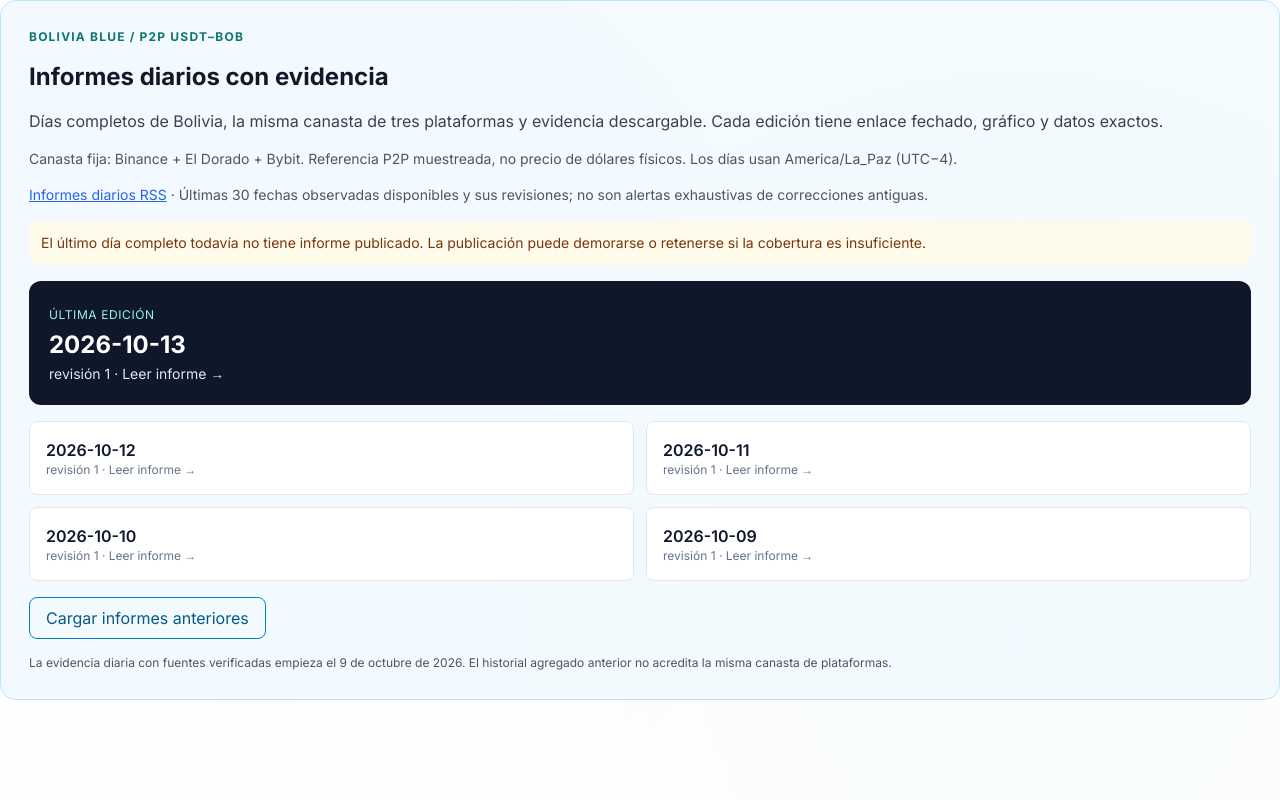
Test: daily evidence archive › loads older dates and deduplicates repeated rows
Step 1. Click the button "Cargar informes anteriores" → (147, 618), box [29,597,266,639]
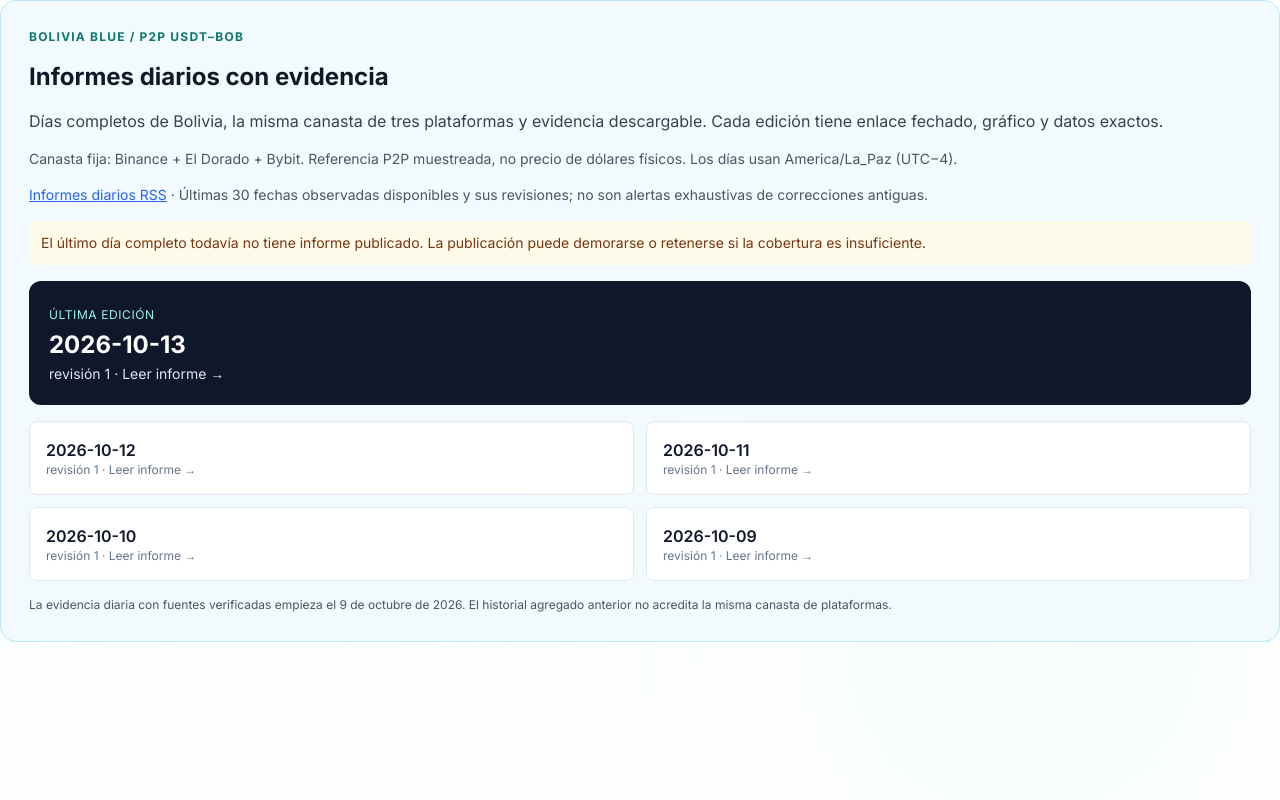
Expected: the number of links is 6, [29,186,167,203]; [29,281,1251,405]; [29,421,634,495]; [646,421,1251,495]; [29,507,634,581]; [646,507,1251,581]
Now the button "Cargar informes anteriores" is gone
